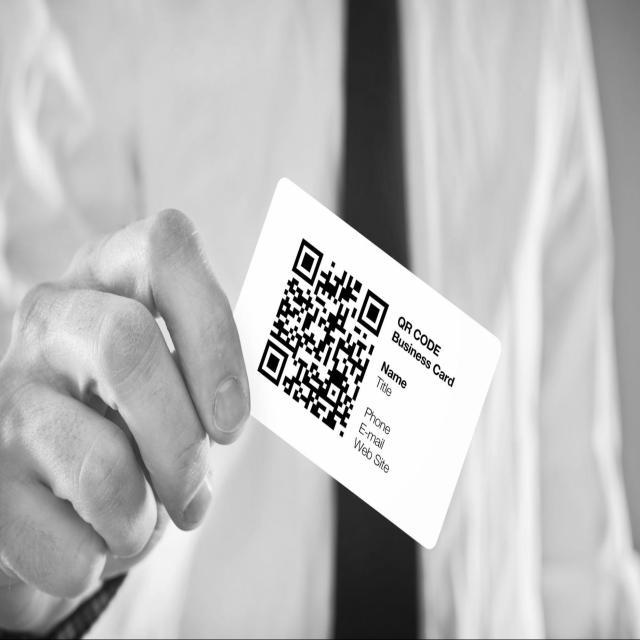QR-codes: (262, 246, 388, 438)
